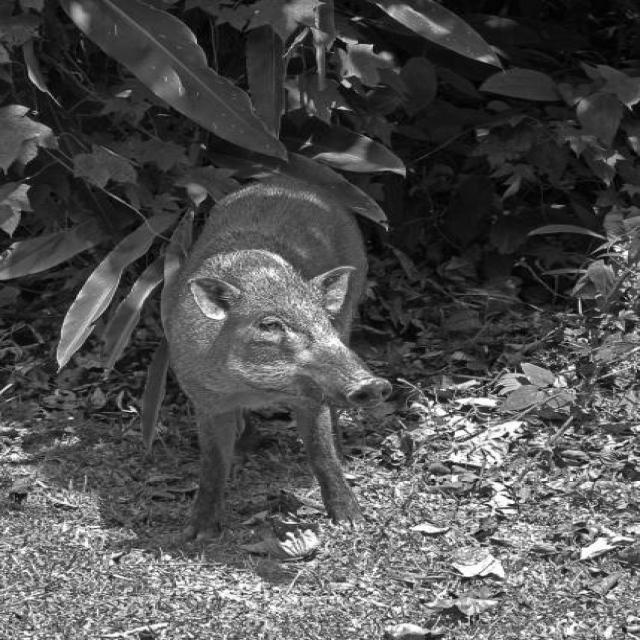boar: (170, 178, 392, 540)
